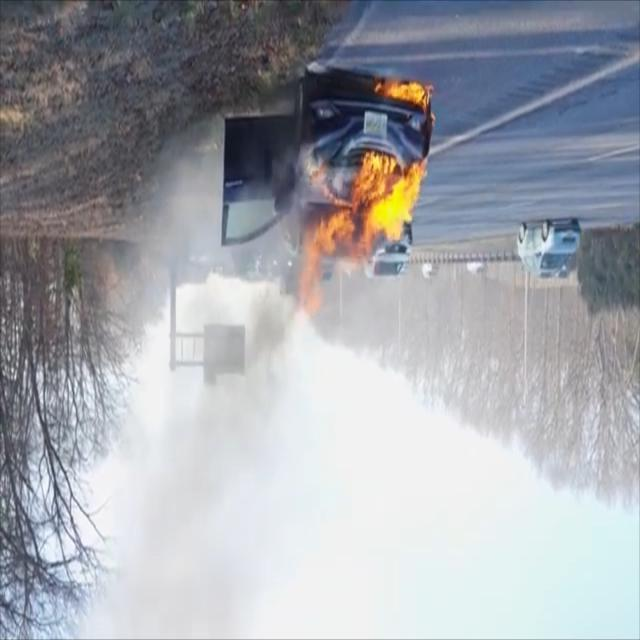fire: (288, 75, 435, 324)
